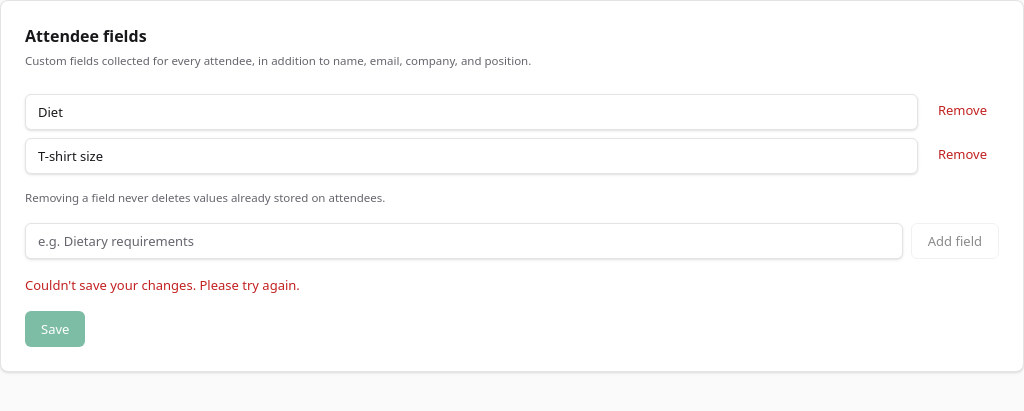
Test: AttendeeFieldsCard › re-enables Save once the offending row is fixed (blank -> valid, back to dirty-but-valid)
This screenshot has width=1024, height=411.
Clear the field showing "Diet" at (471, 112), box [25,94,918,130]
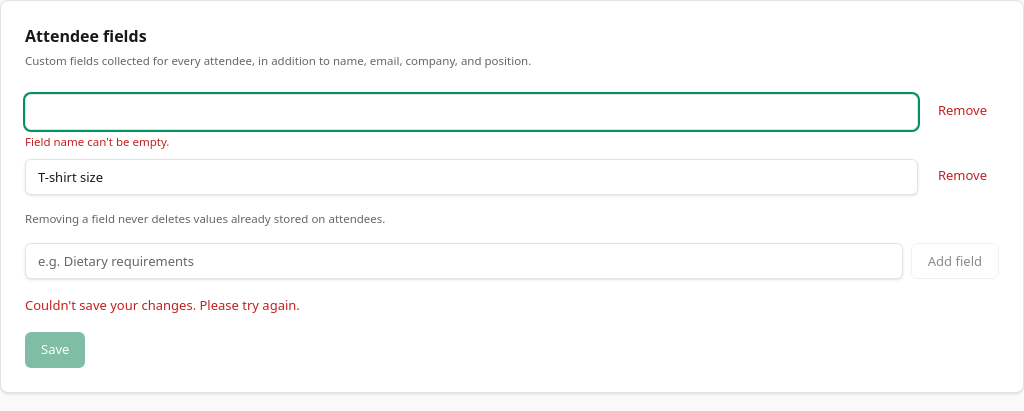
Expected: the button "Save" is disabled, [25,332,85,368]
Type "Dietary needs" into the field showing "Diet" at (471, 112), box [25,94,918,130]
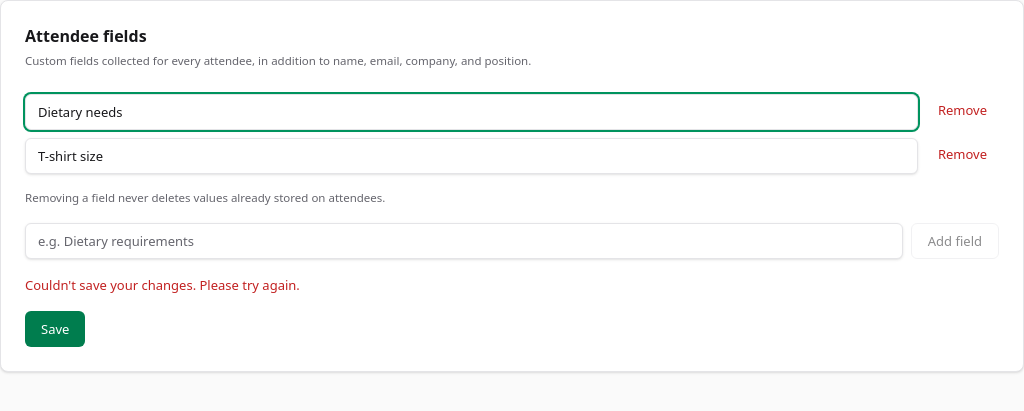
Result: the text "Field name can't be empty." is gone
Result: the button "Save" is enabled at [25,311,85,347]
